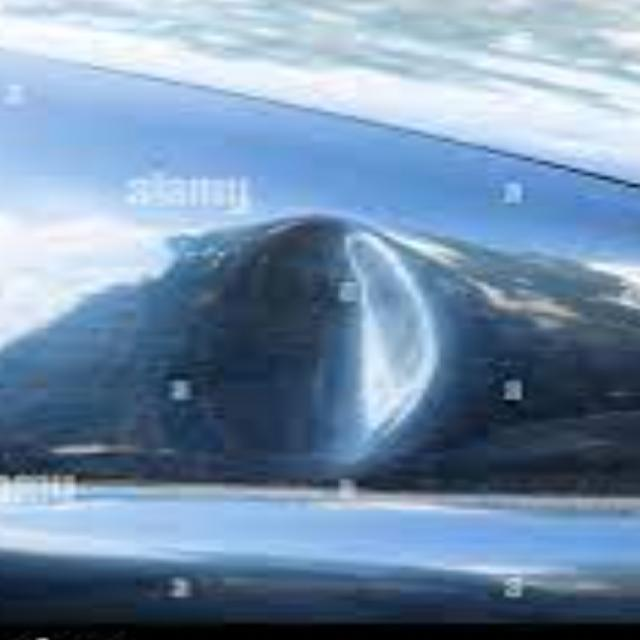dents: (136, 212, 484, 498)
